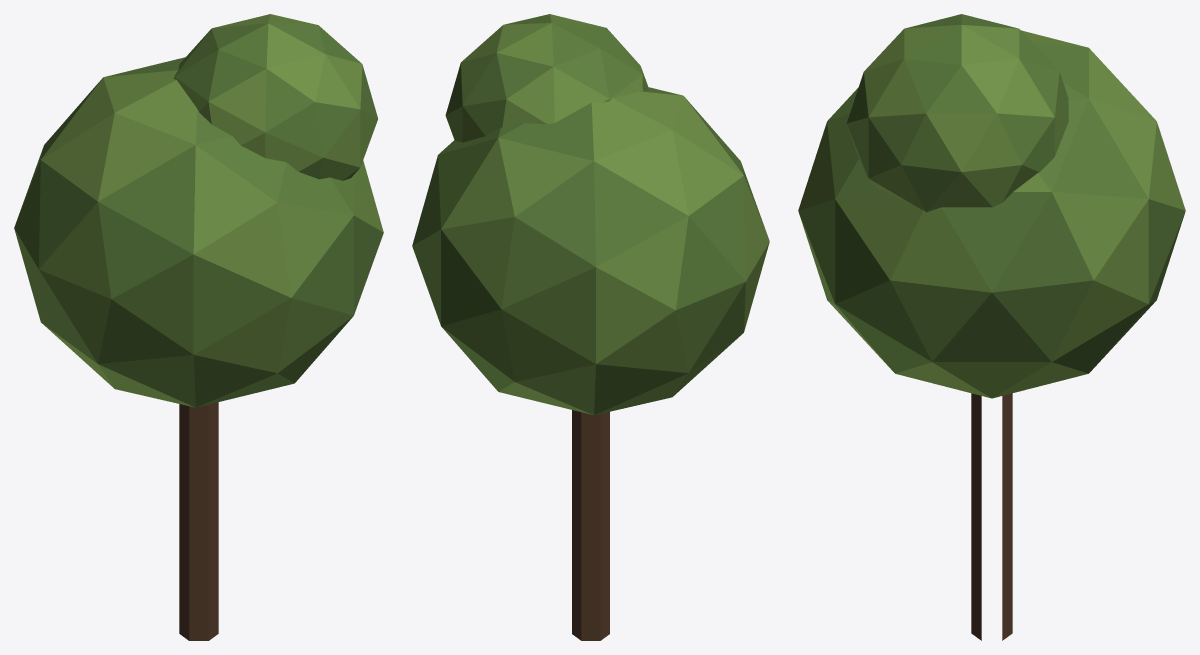
The model's file is tree.glb.
3 views of the same model, side by side, from view 1: azimuth 30°, elevation 25°; view 2: azimuth 150°, elevation 25°; view 3: azimuth 270°, elevation 25° (orthographic). The views are drawn at different scales.
Bounding box in the file's own units: 3.2 × 5.8 × 3.2.
